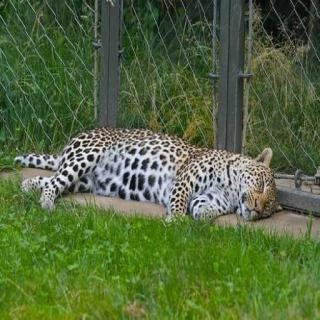Leopard: (44, 101, 318, 281)
